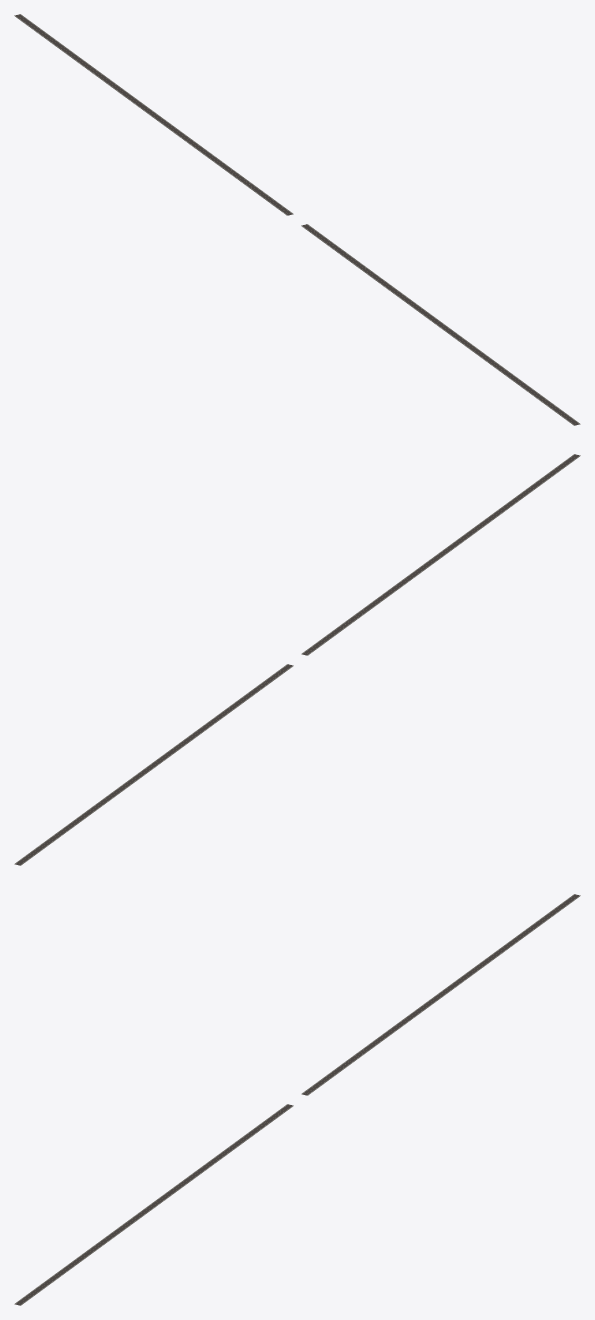
The model's file is EarthRoad.obj.
3 renders of one model, top to bottom at view 1: azimuth 30°, elevation 25°; view 2: azimuth 150°, elevation 25°; view 3: azimuth 330°, elevation 25°, orthographic.
Visible parts, largest first — view 1: EarthRoad; view 2: EarthRoad; view 3: EarthRoad.
Boxes of the visible parts, left/top/right/bottom form: EarthRoad: left=14, top=14, right=580, bottom=425; EarthRoad: left=14, top=454, right=580, bottom=865; EarthRoad: left=14, top=894, right=580, bottom=1305.
Bounding box in the file's own units: 40 × 1.37 × 5800.
Materials: 1 (1 with a texture image).
